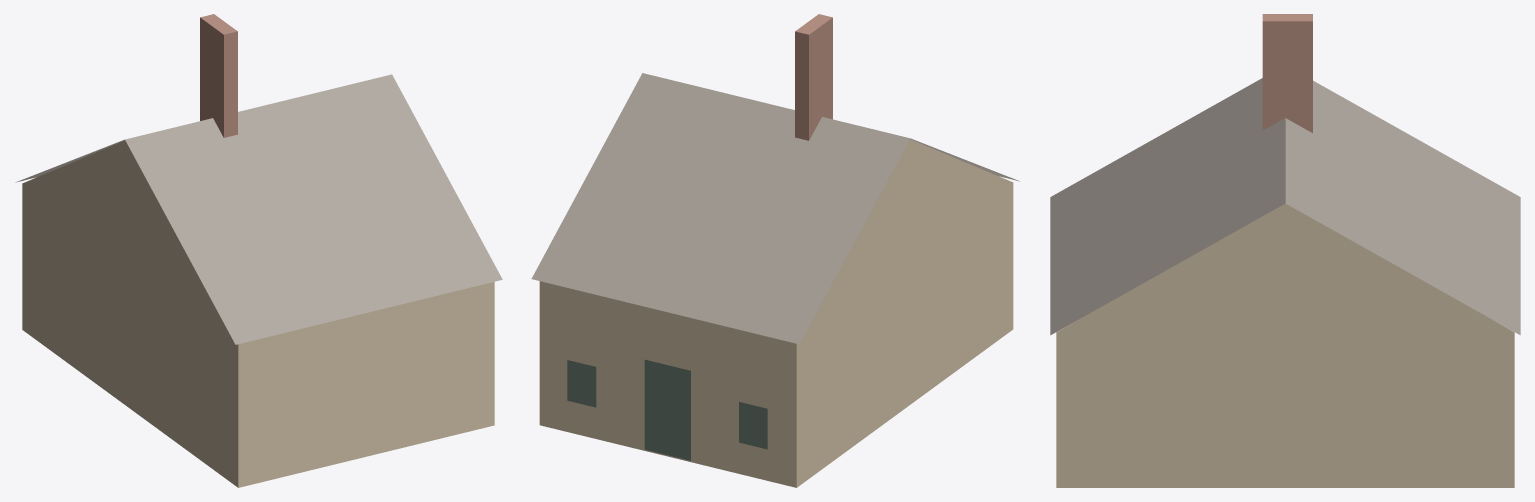
Rendered from recon_1835_south_d6_031__recommended_1835.glb.
3 views of the same model, side by side, from view 1: azimuth 30°, elevation 25°; view 2: azimuth 150°, elevation 25°; view 3: azimuth 270°, elevation 25° (orthographic). The views are drawn at different scales.
Parts seen in each view (by area): view 1: recon_1835_south_d6_031__recommended_1835; view 2: recon_1835_south_d6_031__recommended_1835; view 3: recon_1835_south_d6_031__recommended_1835.
Part boxes in pixels (bbox=[...]): recon_1835_south_d6_031__recommended_1835: bbox=[15, 14, 502, 487]; recon_1835_south_d6_031__recommended_1835: bbox=[531, 14, 1019, 487]; recon_1835_south_d6_031__recommended_1835: bbox=[1050, 14, 1520, 487].
Size of the model in its own units: 6.88 by 8.9 by 9.87.
